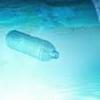Plastic: (2, 25, 61, 66)
